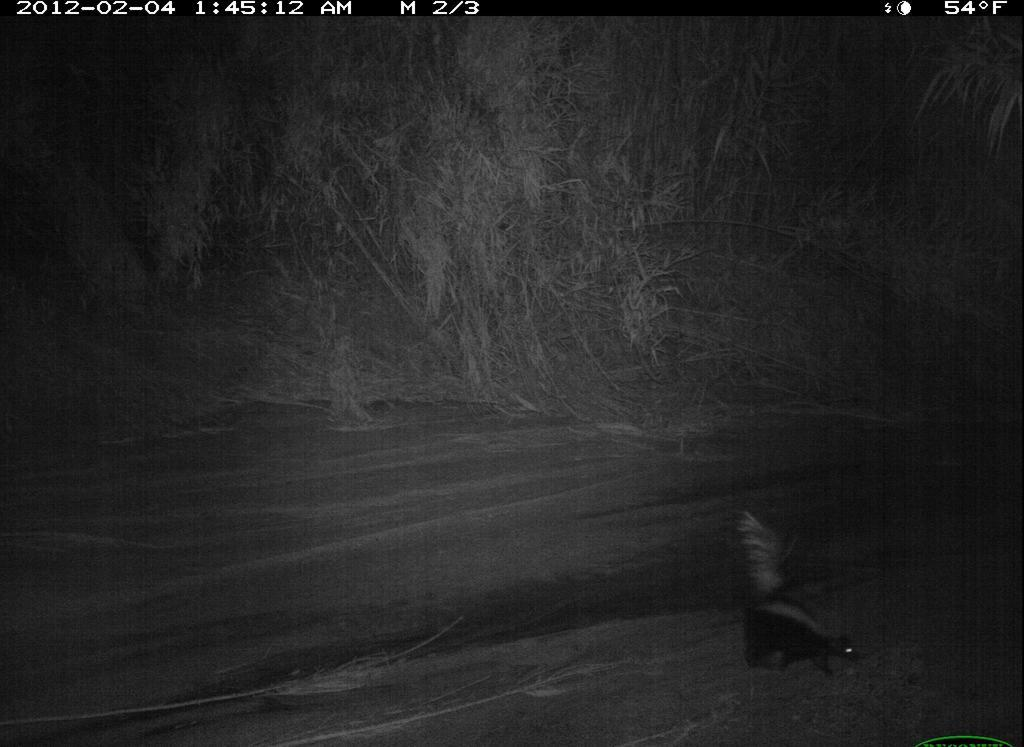skunk: (729, 494, 870, 687)
